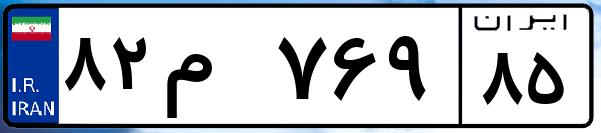2: (110, 28, 158, 98)
5: (525, 38, 570, 115)
6: (330, 28, 385, 110)
7: (270, 28, 330, 110)
8: (57, 26, 110, 100), (475, 38, 525, 113)
9: (385, 28, 445, 110)
م: (158, 20, 270, 120)
